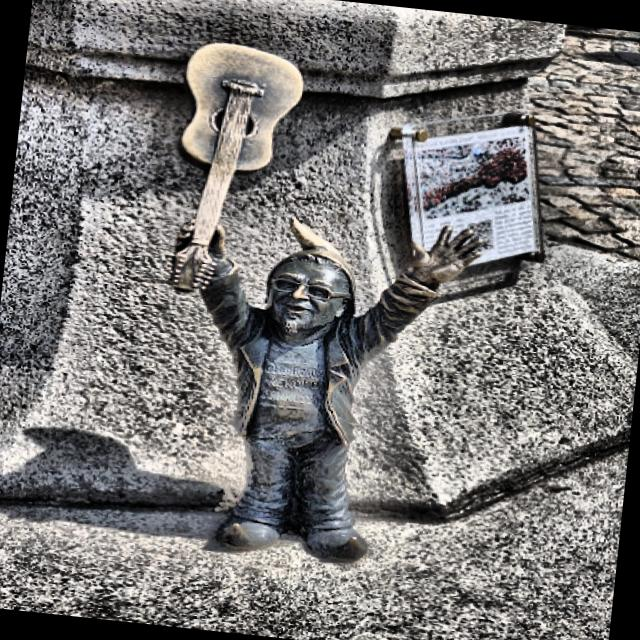Leszko_z_Wroclawia: (171, 43, 481, 564)
